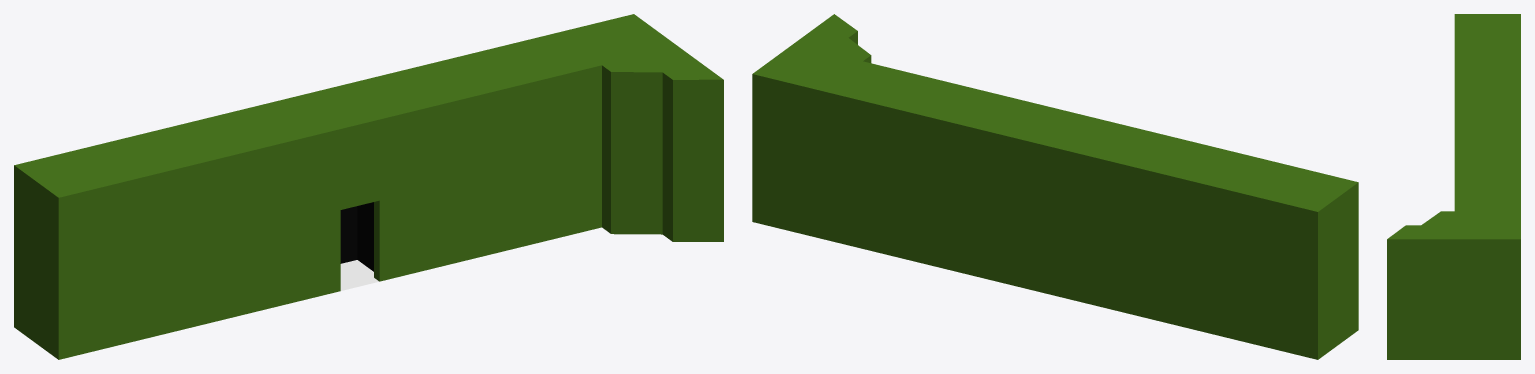
File: B7 N Mountain Cave.obj
The picture shows the model from 3 angles, left to right: view 1: azimuth 30°, elevation 25°; view 2: azimuth 150°, elevation 25°; view 3: azimuth 270°, elevation 25°; orthographic projection. The views are drawn at different scales.
Visible parts, largest first — view 1: Mesh2 B7_N_Mountain1 Model, Mesh1 CaveEntrance1 B7_N_Mountain1 Model; view 2: Mesh2 B7_N_Mountain1 Model; view 3: Mesh2 B7_N_Mountain1 Model.
Part boxes in pixels (box(x1,y1,x2,y2)): Mesh2 B7_N_Mountain1 Model: box(14, 14, 723, 359); Mesh1 CaveEntrance1 B7_N_Mountain1 Model: box(340, 202, 378, 290); Mesh2 B7_N_Mountain1 Model: box(752, 14, 1358, 359); Mesh2 B7_N_Mountain1 Model: box(1387, 14, 1520, 359).
Bounding box in the file's own units: 16 × 4 × 4.02.
